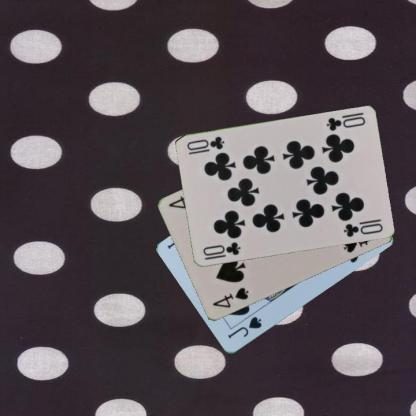10c: (324, 110, 366, 133), (200, 240, 242, 258)
4s: (210, 285, 250, 310)
Js: (225, 314, 263, 340)
